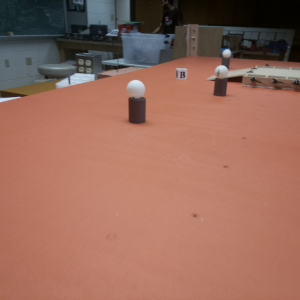blockB: (175, 67, 188, 82)
corner: (188, 22, 199, 57)
obstacle: (127, 81, 147, 125), (212, 65, 230, 98), (222, 49, 231, 63)
side: (241, 74, 300, 92)
